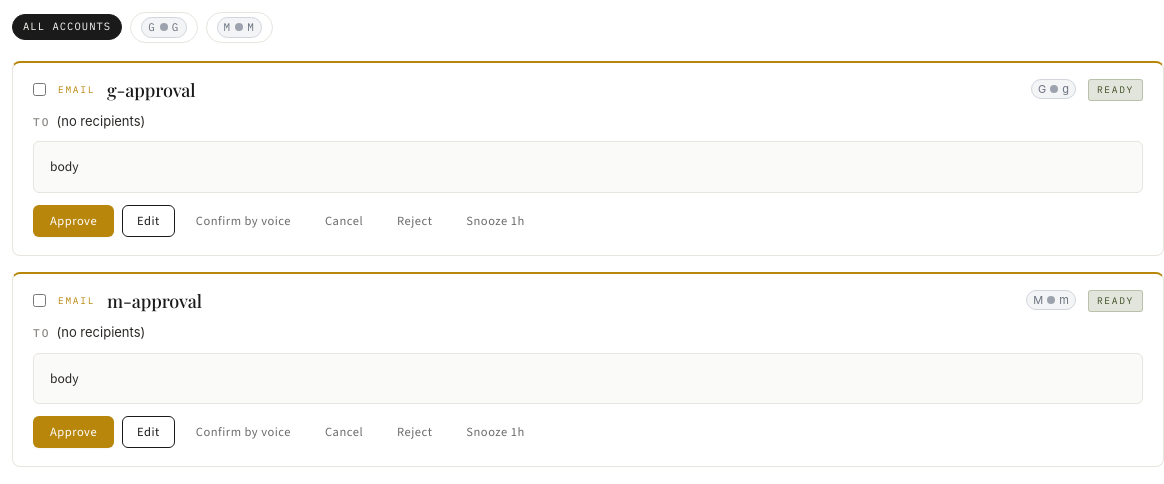
Test: ApprovalQueue account filter › filters rows by account chip
Click the button with test id "approval-account-filter-microsoft-m@example.com" at (239, 27), box [206, 12, 273, 42]
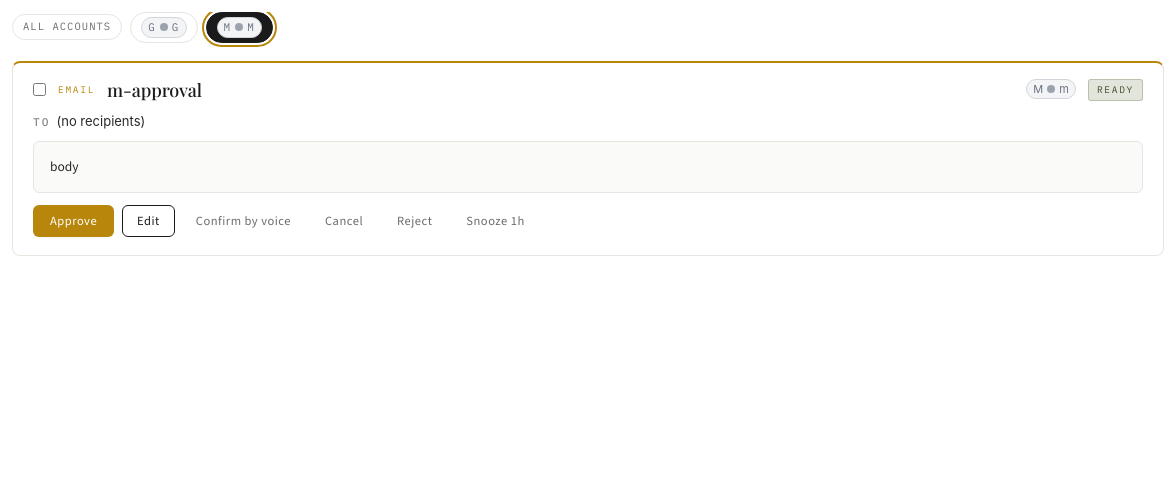
Expected: the element with test id "approval-card-m-approval" is shown, [12, 60, 1163, 256]
Expected: the element with test id "approval-card-g-approval" is gone
